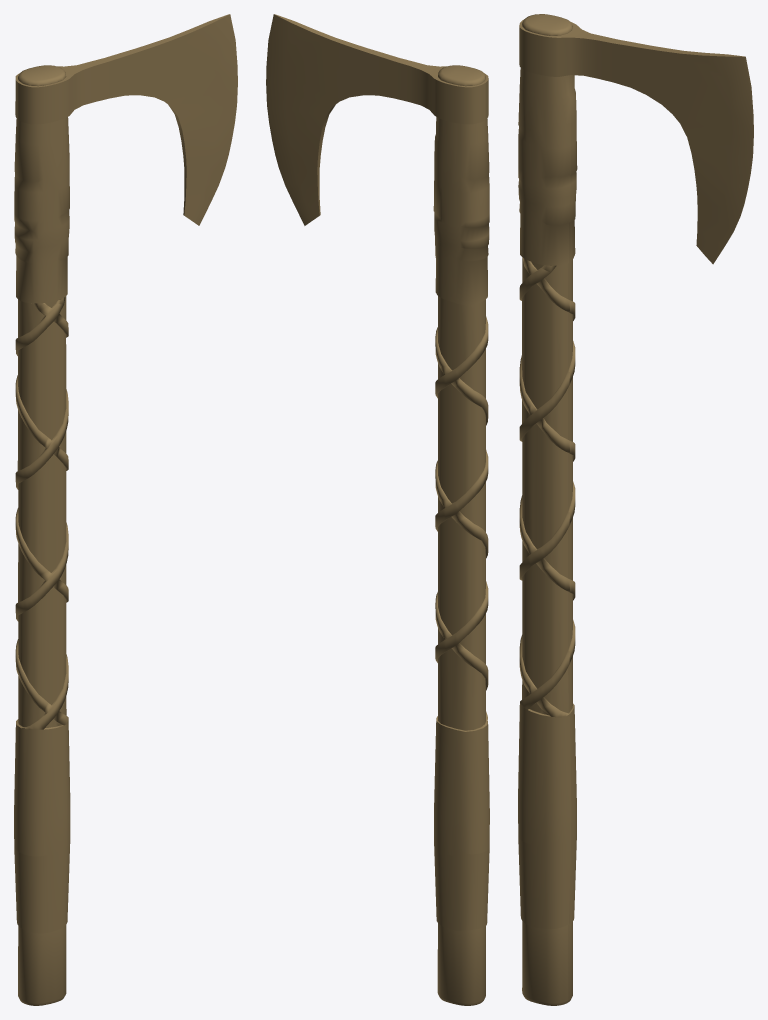
The model's file is axe_4.fbx.
3 views of the same model, side by side, from view 1: azimuth 30°, elevation 25°; view 2: azimuth 150°, elevation 25°; view 3: azimuth 330°, elevation 25° (orthographic). The views are drawn at different scales.
Visible parts, largest first — view 1: axe_LP.002; view 2: axe_LP.002; view 3: axe_LP.002.
Boxes of the visible parts, x1,y1,x2,y2 form: axe_LP.002: [14, 14, 237, 1005]; axe_LP.002: [266, 14, 489, 1005]; axe_LP.002: [518, 14, 753, 1005].
Bounding box in the file's own units: 0.1518 × 0.6163 × 0.0275.
